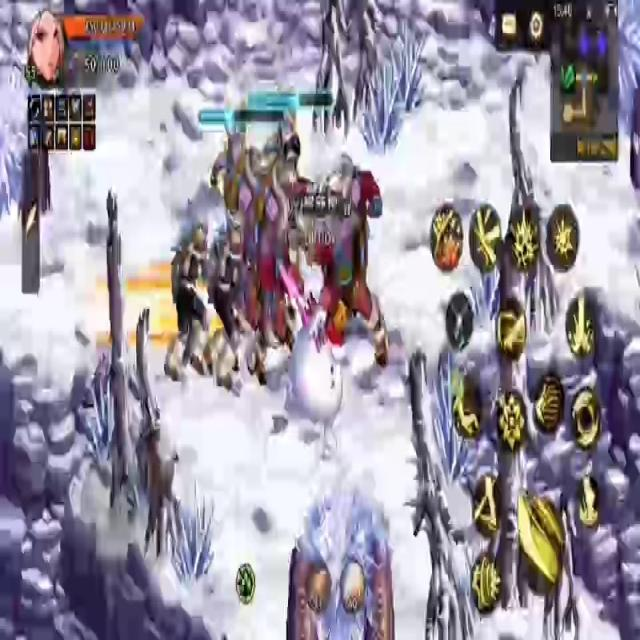player: (286, 276, 350, 466)
